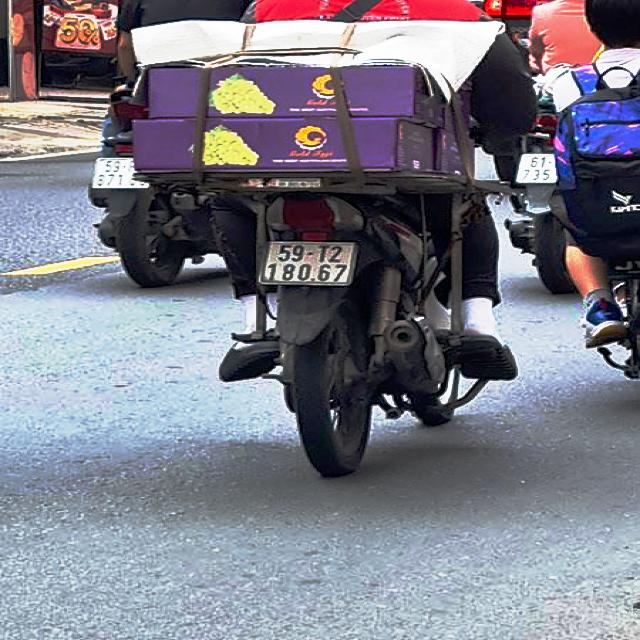license_plate: (262, 244, 356, 285)
